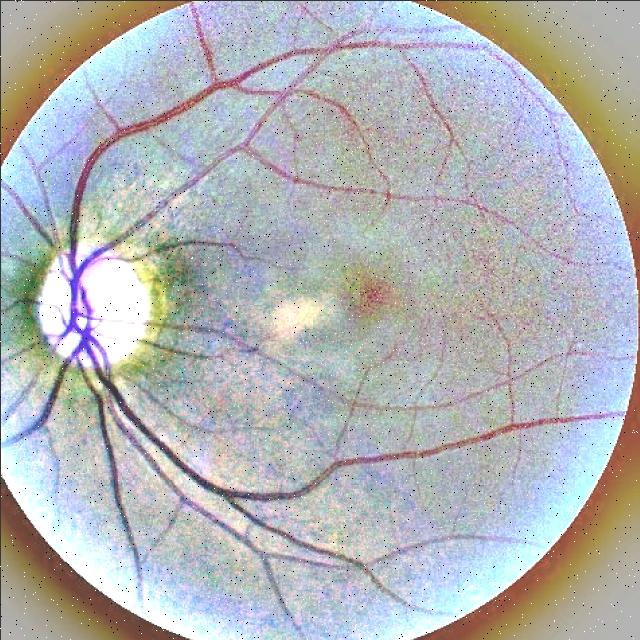Macula: (333, 265, 405, 321)
Nerves: (0, 63, 366, 621), (152, 320, 261, 355), (133, 238, 261, 261)
Optic Disk: (34, 235, 153, 372)
